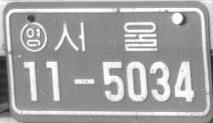-: (72, 76, 97, 87)
0: (125, 60, 148, 103)
1: (20, 60, 43, 101), (44, 60, 66, 102)
3: (148, 59, 172, 103)
4: (172, 60, 195, 102)
5: (101, 60, 125, 103)
서울_D: (54, 20, 157, 52)
영: (19, 21, 47, 52)
